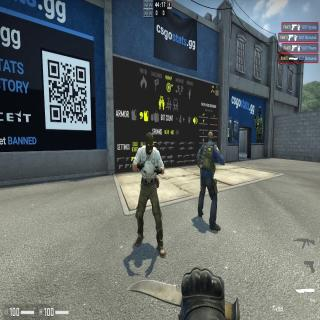CT-Body: (198, 130, 218, 230)
CT-Head: (208, 132, 214, 143)
T-Body: (138, 130, 161, 248)
T-Head: (145, 132, 153, 153)
